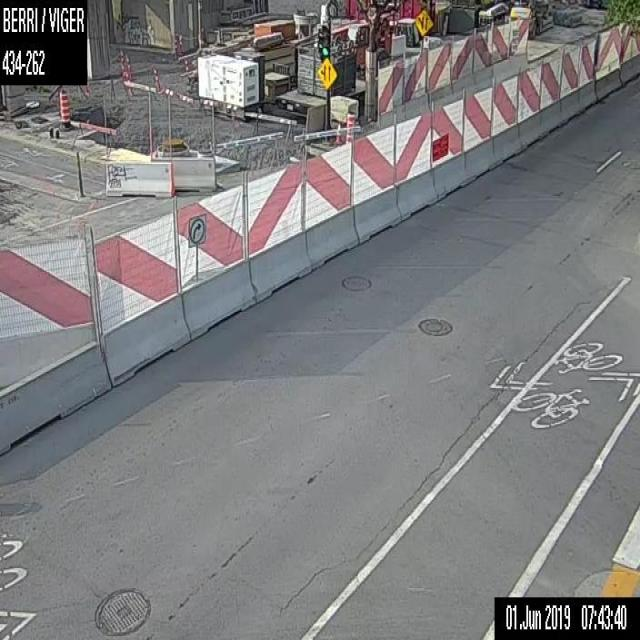construction: (57, 85, 71, 131), (344, 116, 354, 144), (334, 121, 343, 143)
